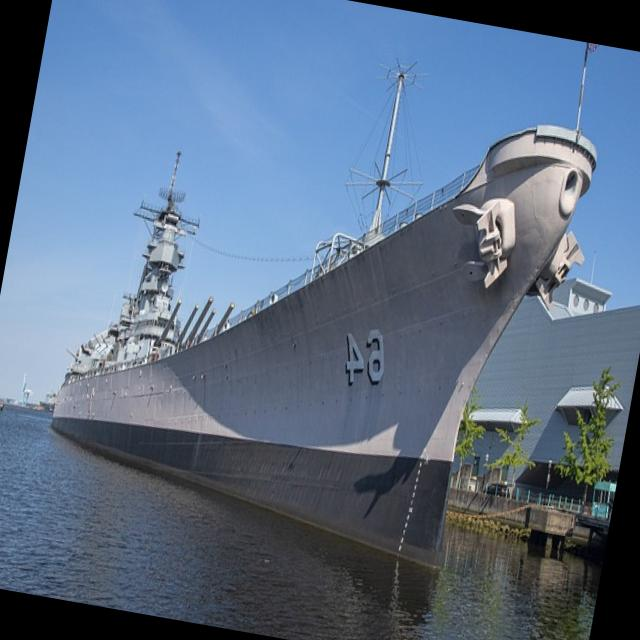Military: (48, 67, 596, 570)
